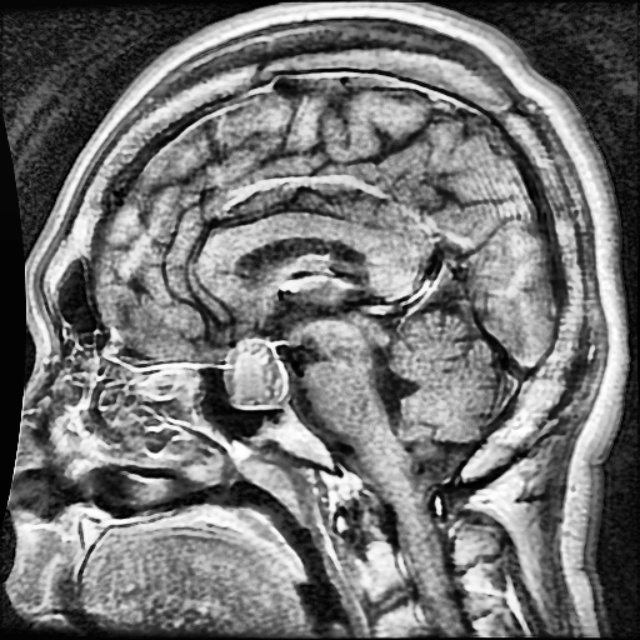Pituitary: (223, 340, 288, 413)
